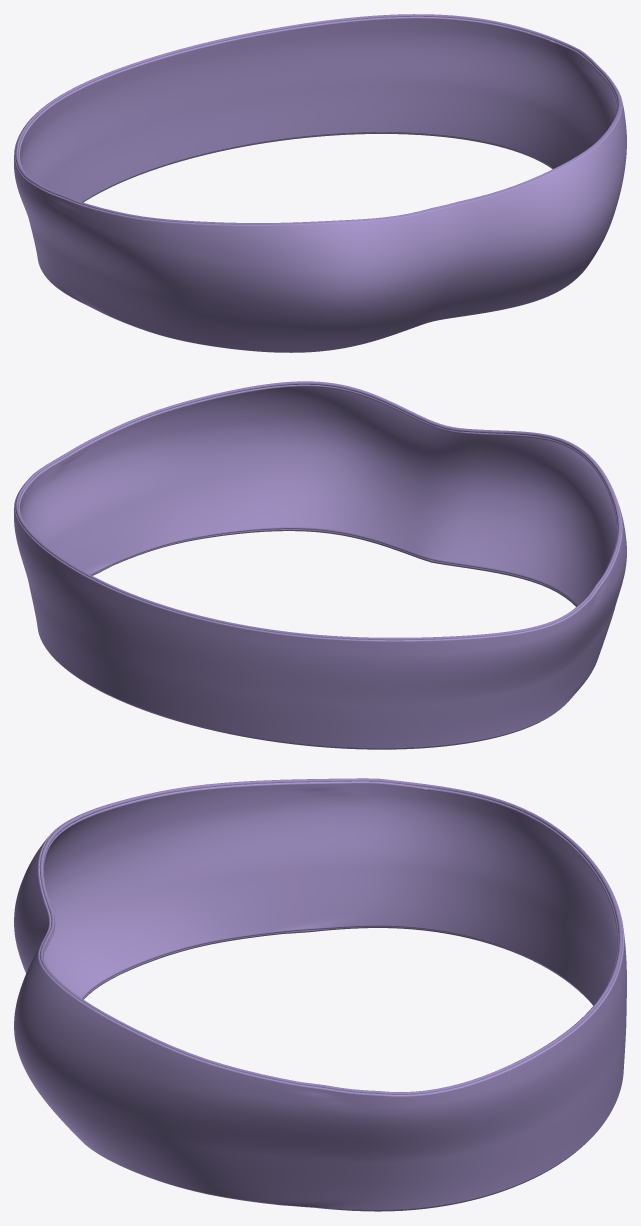
File: Feminine-bandeau-top.glb
The picture shows the model from 3 angles, top to bottom: view 1: azimuth 30°, elevation 25°; view 2: azimuth 150°, elevation 25°; view 3: azimuth 270°, elevation 25°; orthographic projection. The views are drawn at different scales.
Parts seen in each view (by area): view 1: Clothing / Bandeau, Bandeau / bound edge.001 export, Bandeau / bound edge export; view 2: Clothing / Bandeau, Bandeau / bound edge.001 export, Bandeau / bound edge export; view 3: Clothing / Bandeau, Bandeau / bound edge.001 export, Bandeau / bound edge export.
Boxes of the visible parts, bbox=[...] form: Clothing / Bandeau: bbox=[14, 16, 626, 352]; Bandeau / bound edge.001 export: bbox=[15, 14, 621, 224]; Bandeau / bound edge export: bbox=[71, 133, 552, 303]; Clothing / Bandeau: bbox=[14, 381, 626, 748]; Bandeau / bound edge.001 export: bbox=[15, 381, 621, 640]; Bandeau / bound edge export: bbox=[77, 529, 576, 749]; Clothing / Bandeau: bbox=[14, 781, 626, 1210]; Bandeau / bound edge.001 export: bbox=[39, 778, 622, 1094]; Bandeau / bound edge export: bbox=[83, 926, 581, 1211].
Size of the model in its own units: 0.6458 by 0.1572 by 0.5307.
